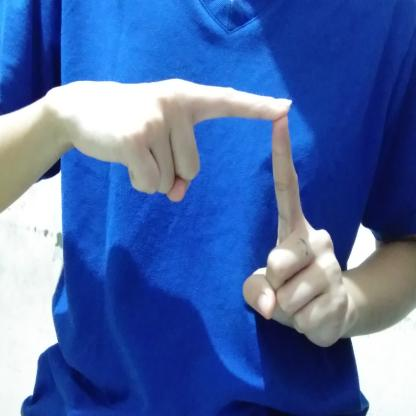when: (44, 76, 359, 354)
